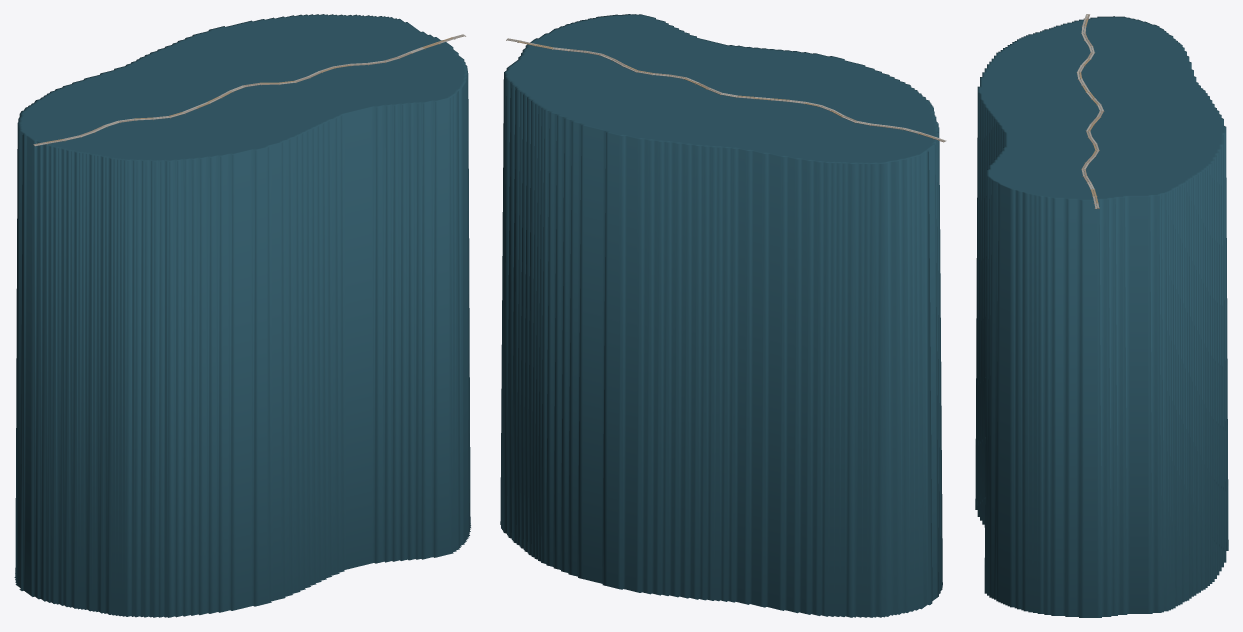
The model's file is extras.glb.
3 renders of one model, left to right at view 1: azimuth 30°, elevation 25°; view 2: azimuth 150°, elevation 25°; view 3: azimuth 270°, elevation 25°, orthographic. The views are drawn at different scales.
Visible parts, largest first — view 1: Pool, Spang; view 2: Pool, Spang; view 3: Pool, Spang.
Part boxes in pixels (x1=…): Pool: x1=14, y1=14, x2=470, y2=617; Spang: x1=33, y1=34, x2=465, y2=146; Pool: x1=500, y1=14, x2=942, y2=617; Spang: x1=506, y1=38, x2=946, y2=142; Pool: x1=975, y1=16, x2=1228, y2=617; Spang: x1=1076, y1=14, x2=1104, y2=208.
Size of what is drawn, in the model's own units: 100 by 100 by 55.
